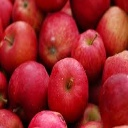apple: (7, 62, 51, 122)
